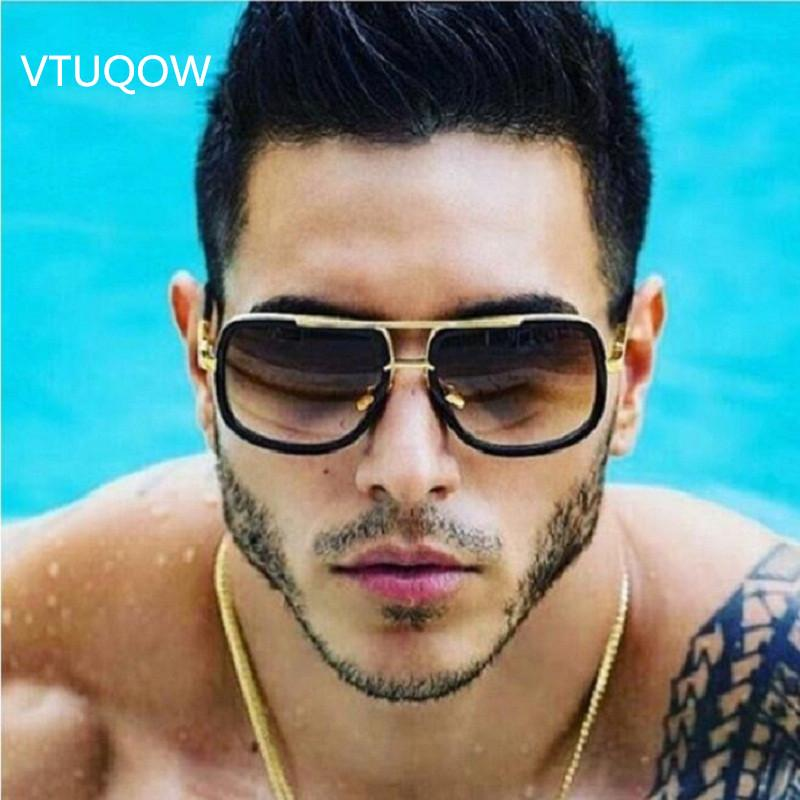sunglasses: (153, 308, 642, 469)
